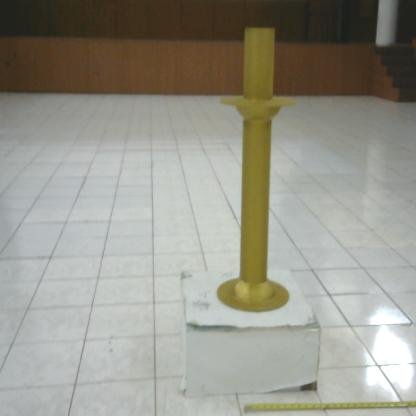pole: (213, 22, 299, 317)
